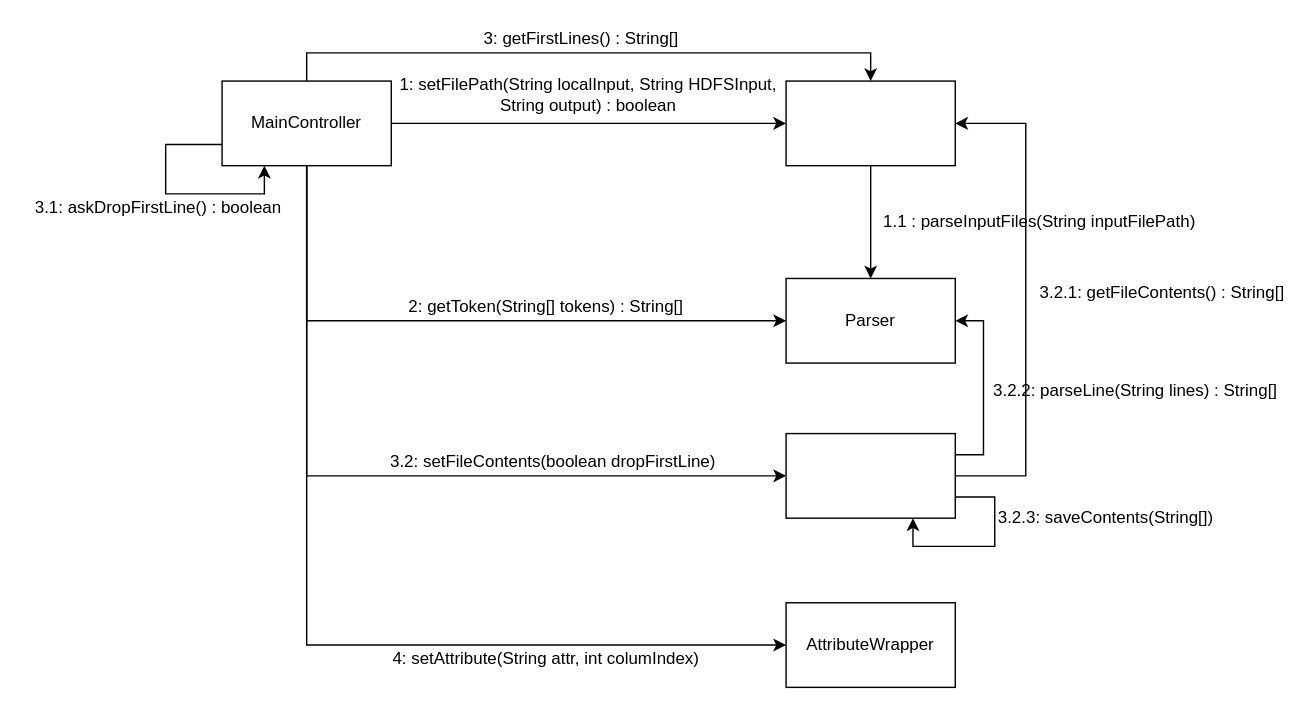
Some shapes in this 1314 by 712 pixel diagram are drawn without their labels. The shapes that lost their labels are listed below. From the top down, each one's centre as x and y in pixels, then its label:
the point at 870,123: Storage
the point at 870,475: HiveInteractor
